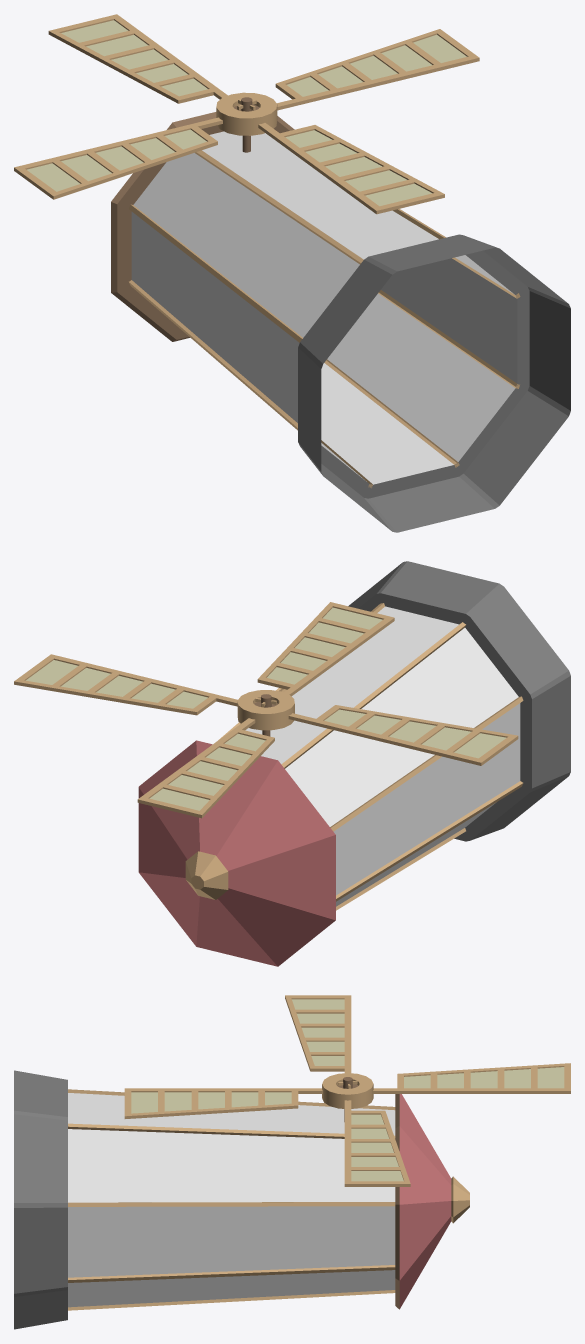
File: WindMill01.fbx
3 views of the same model, one above another, from view 1: azimuth 30°, elevation 25°; view 2: azimuth 150°, elevation 25°; view 3: azimuth 270°, elevation 25° (orthographic). The views are drawn at different scales.
Parts seen in each view (by area): view 1: MillBuilding, MillWing02, MillWing04, MillWing01, MillWing03, MillRotor; view 2: MillBuilding, MillWing02, MillWing04, MillWing03, MillWing01, MillRotor; view 3: MillBuilding, MillWing01, MillWing03, MillWing04, MillWing02, MillRotor.
Part boxes in pixels (bbox=[...]): MillBuilding: bbox=[111, 112, 570, 532]; MillWing02: bbox=[14, 117, 222, 199]; MillWing04: bbox=[275, 29, 479, 110]; MillWing01: bbox=[258, 123, 444, 214]; MillWing03: bbox=[48, 14, 227, 103]; MillRotor: bbox=[216, 92, 277, 152]; MillBuilding: bbox=[138, 561, 570, 966]; MillWing02: bbox=[288, 705, 518, 765]; MillWing04: bbox=[14, 654, 237, 715]; MillWing03: bbox=[137, 718, 274, 818]; MillWing01: bbox=[257, 602, 394, 696]; MillRotor: bbox=[237, 690, 294, 736]; MillBuilding: bbox=[14, 1070, 469, 1329]; MillWing01: bbox=[124, 1088, 322, 1118]; MillWing03: bbox=[373, 1063, 570, 1093]; MillWing04: bbox=[344, 1100, 410, 1186]; MillWing02: bbox=[285, 995, 351, 1073]; MillRotor: bbox=[322, 1073, 373, 1121].
Size of the model in its own units: 8.25 by 4.7 by 10.29.
